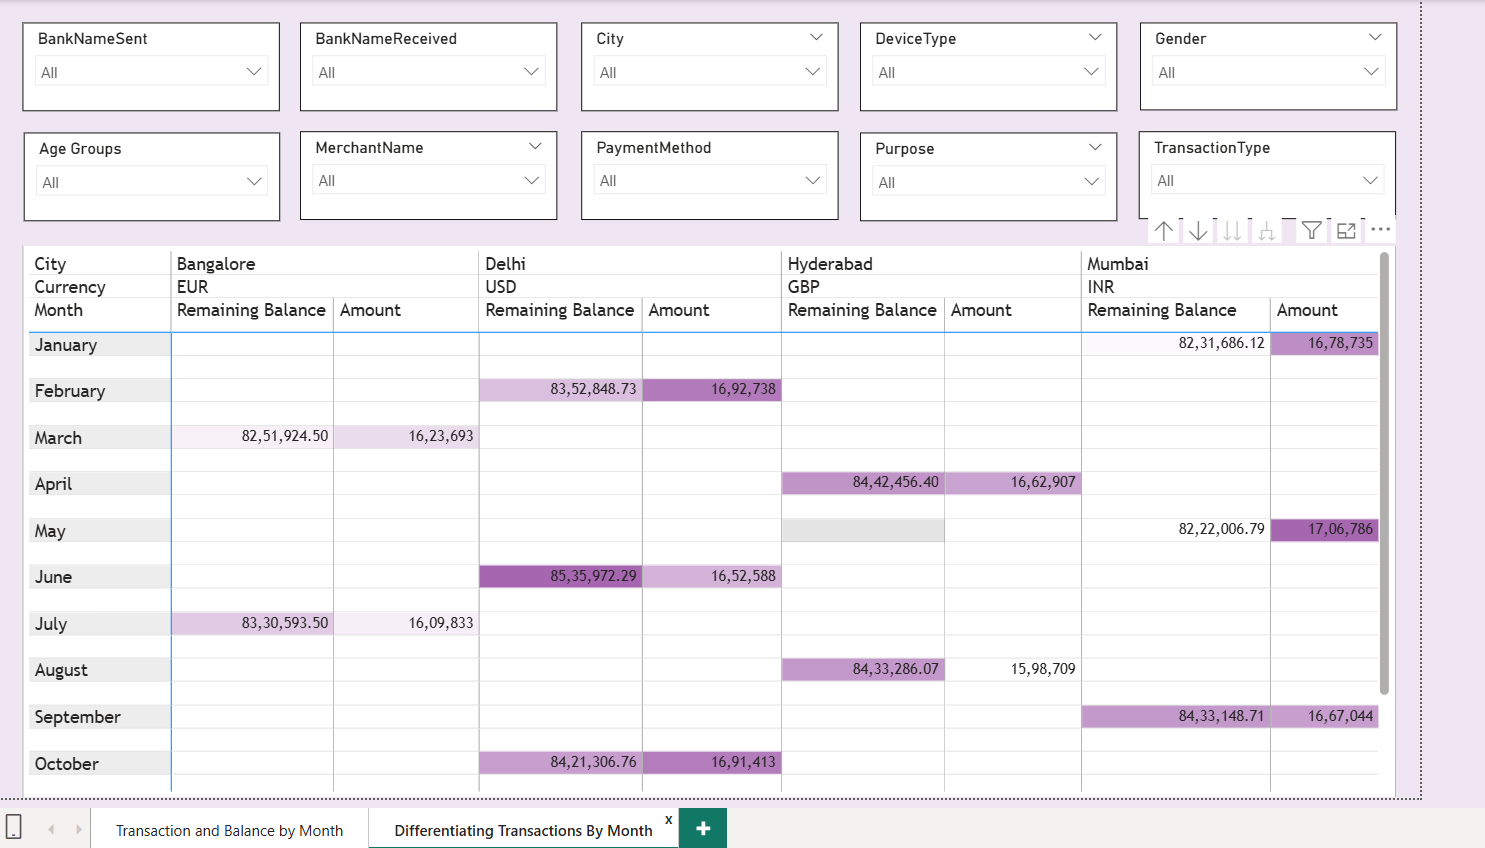

The page's visual inventory and layout, read from the dashboard file:
{"tool":"powerbi","page":{"name":"Differentiating Transactions By Month","canvas":[1280,720],"ordinal":1},"visuals":[{"type":"slicer","fields":{"Values":["UPI Transaction.BankNameSent"]},"box":[20,20,232,80],"z":0},{"type":"slicer","fields":{"Values":["UPI Transaction.BankNameReceived"]},"box":[271,20,232,79.8],"z":1000},{"type":"slicer","fields":{"Values":["UPI Transaction.City"]},"box":[524,20,232,79.8],"z":2000},{"type":"slicer","fields":{"Values":["UPI Transaction.DeviceType"]},"box":[776,20,232,79.8],"z":3000},{"type":"slicer","fields":{"Values":["UPI Transaction.Gender"]},"box":[1028,20.3,232,79],"z":4000},{"type":"slicer","fields":{"Values":["UPI Transaction.Age Groups"]},"box":[21.4,119.5,231.1,80],"z":5000},{"type":"slicer","fields":{"Values":["UPI Transaction.MerchantName"]},"box":[270.5,118.3,232.2,80],"z":6000},{"type":"slicer","fields":{"Values":["UPI Transaction.PaymentMethod"]},"box":[524.1,118.3,232.2,80],"z":7000},{"type":"slicer","fields":{"Values":["UPI Transaction.Purpose"]},"box":[775.5,119.5,232.2,80],"z":8000},{"type":"slicer","fields":{"Values":["UPI Transaction.TransactionType"]},"box":[1026.8,118.3,232.2,78.9],"z":9000},{"type":"pivotTable","fields":{"Values":["Sum(UPI Transaction.RemainingBalance)","Sum(UPI Transaction.Amount)"],"Rows":["UPI Transaction.TransactionDate.Variation.Date Hierarchy.Month"],"Columns":["UPI Transaction.City","UPI Transaction.Currency"]},"box":[20.3,220.9,1238.7,499.3],"z":10000}]}

Visuals, with their boxes in screenshot pixels (x1, y1, x2, y2):
slicer - UPI Transaction.BankNameSent: detection(18, 18, 274, 106)
slicer - UPI Transaction.BankNameReceived: detection(295, 18, 551, 106)
slicer - UPI Transaction.City: detection(574, 18, 830, 106)
slicer - UPI Transaction.DeviceType: detection(852, 18, 1109, 106)
slicer - UPI Transaction.Gender: detection(1131, 19, 1387, 106)
slicer - UPI Transaction.Age Groups: detection(20, 128, 275, 216)
slicer - UPI Transaction.MerchantName: detection(295, 127, 551, 215)
slicer - UPI Transaction.PaymentMethod: detection(575, 127, 831, 215)
slicer - UPI Transaction.Purpose: detection(852, 128, 1108, 216)
slicer - UPI Transaction.TransactionType: detection(1129, 127, 1386, 214)
pivotTable - Sum(UPI Transaction.RemainingBalance) x Sum(UPI Transaction.Amount): detection(19, 240, 1386, 791)
